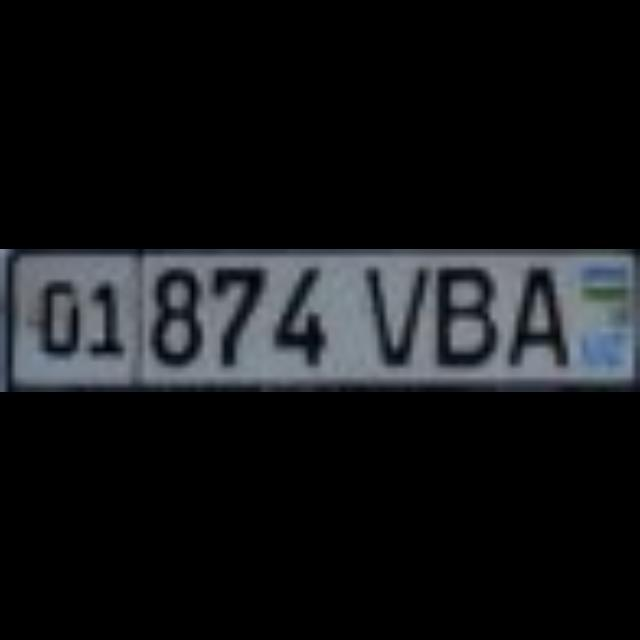0: (26, 268, 72, 346)
1: (78, 268, 118, 346)
4: (261, 255, 313, 353)
7: (203, 255, 255, 353)
8: (137, 255, 189, 353)
A: (496, 255, 562, 359)
B: (424, 255, 490, 359)
V: (352, 255, 418, 359)
